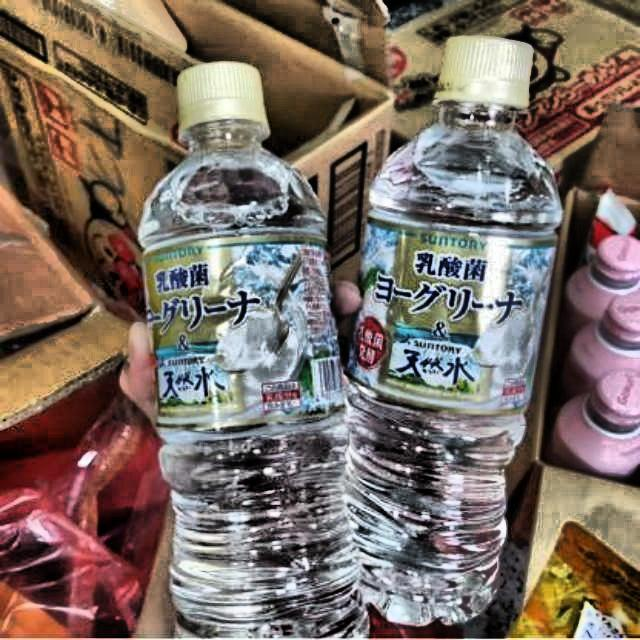Bottles: (106, 53, 389, 640)
